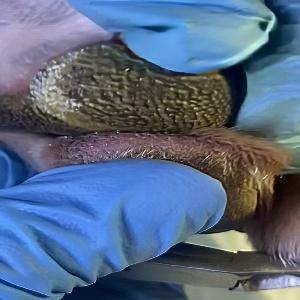keratosis: (26, 40, 232, 134)
